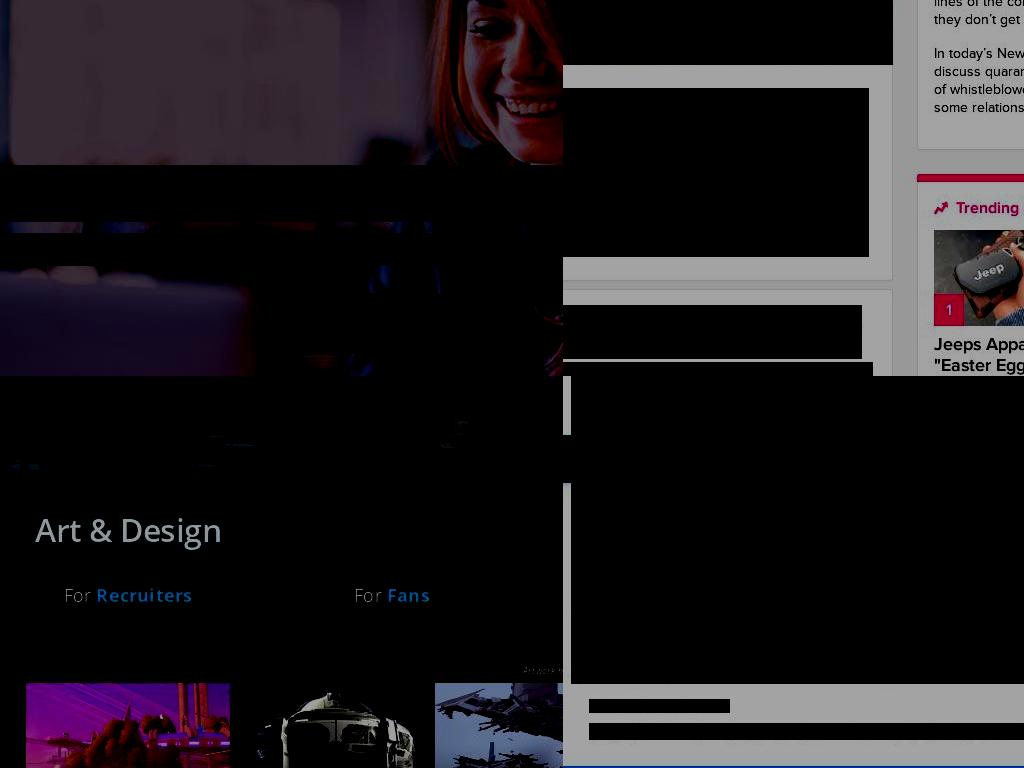button: (563, 88, 869, 257), (25, 683, 231, 768), (230, 683, 436, 768), (934, 230, 1024, 376), (10, 569, 246, 621), (274, 569, 510, 621), (268, 293, 468, 354), (435, 683, 563, 768), (340, 379, 474, 420), (73, 379, 169, 420), (248, 379, 341, 420), (473, 379, 563, 420), (168, 379, 249, 420), (0, 379, 74, 420)
heading: (563, 88, 869, 257), (0, 165, 563, 222), (563, 305, 862, 359), (0, 470, 330, 513), (35, 508, 221, 551), (956, 198, 1024, 218)
image: (571, 376, 1024, 684), (25, 683, 231, 768), (230, 683, 436, 768), (435, 683, 563, 768), (934, 230, 1024, 326), (563, 435, 571, 483)
link: (589, 723, 1024, 740), (589, 699, 730, 713), (522, 664, 563, 677)
text: (0, 233, 563, 266), (934, 45, 1024, 116), (283, 310, 453, 337), (563, 362, 873, 376), (934, 333, 1024, 376), (96, 583, 193, 607), (376, 388, 460, 411), (0, 388, 60, 411), (508, 388, 563, 411), (108, 388, 155, 411), (387, 583, 430, 607), (934, 293, 965, 326), (283, 388, 327, 411), (354, 583, 388, 607), (63, 583, 96, 607), (203, 388, 235, 411)
